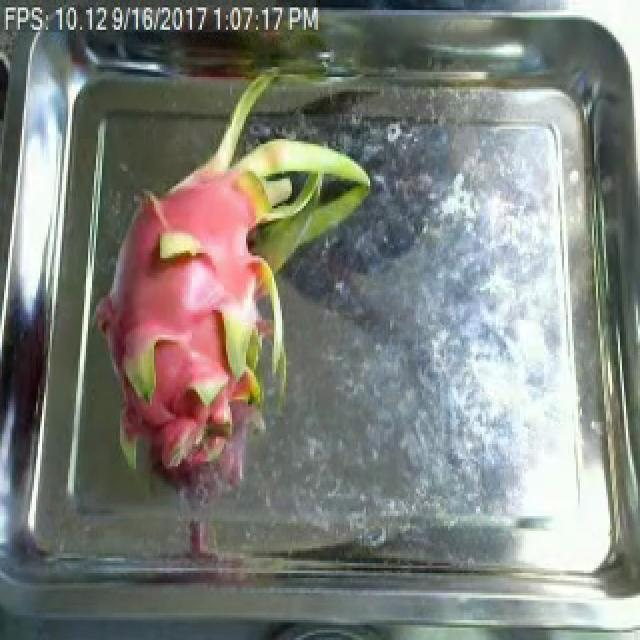fruit: (74, 77, 372, 508)
